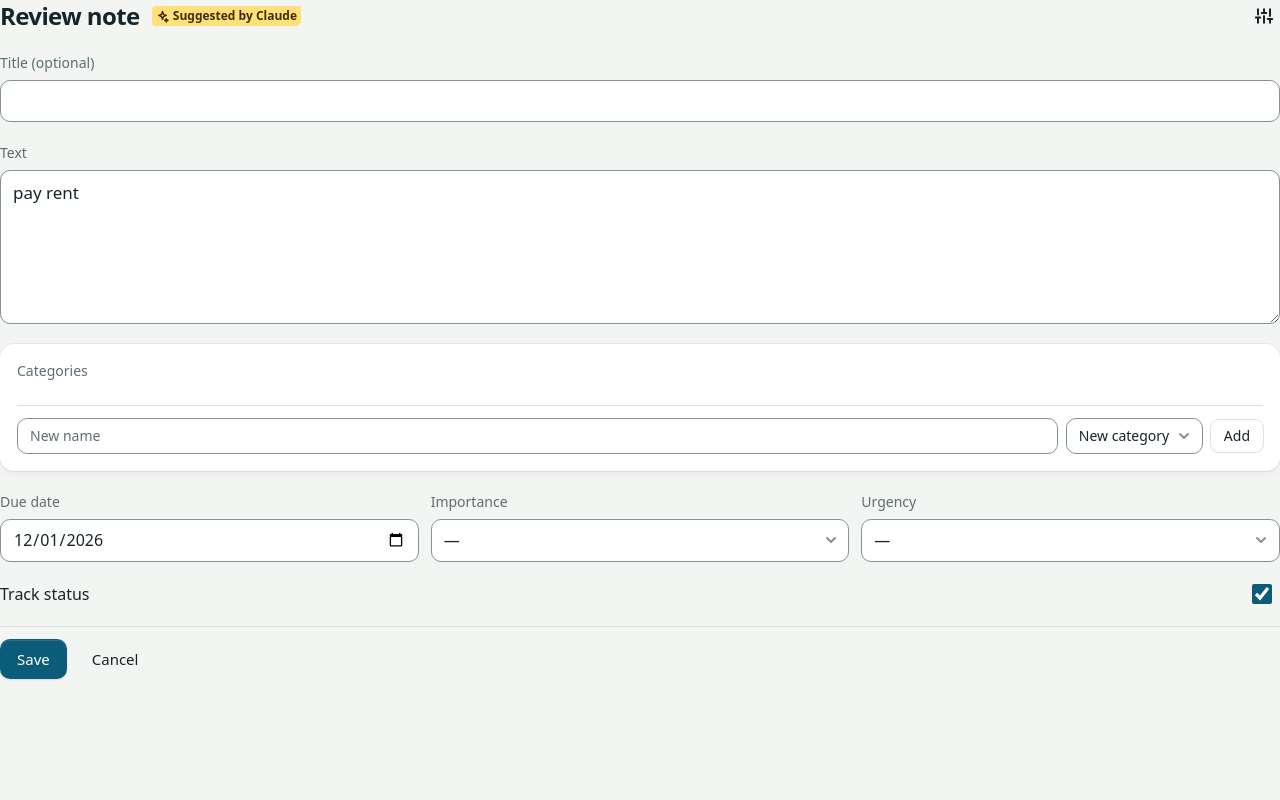
NoteEditor form settings › has no switch for the body; Save updates the open editor and keeps the body
The image size is (1280, 800).
Replace the text in the text box labelled "Text" with "typed" at (640, 247), box top-left (0, 170), bottom-right (1279, 324)
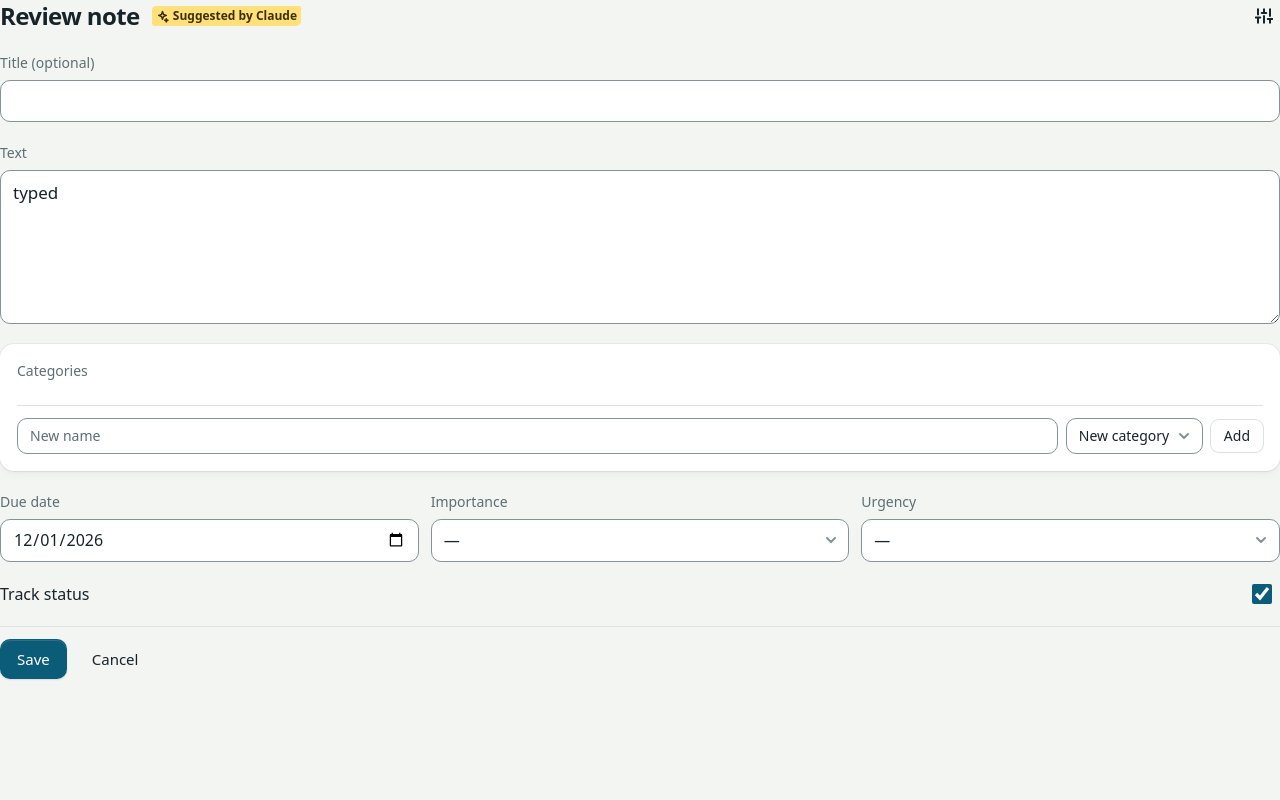
Click the button named "Form settings" at (1264, 16), box top-left (1248, 0), bottom-right (1279, 32)
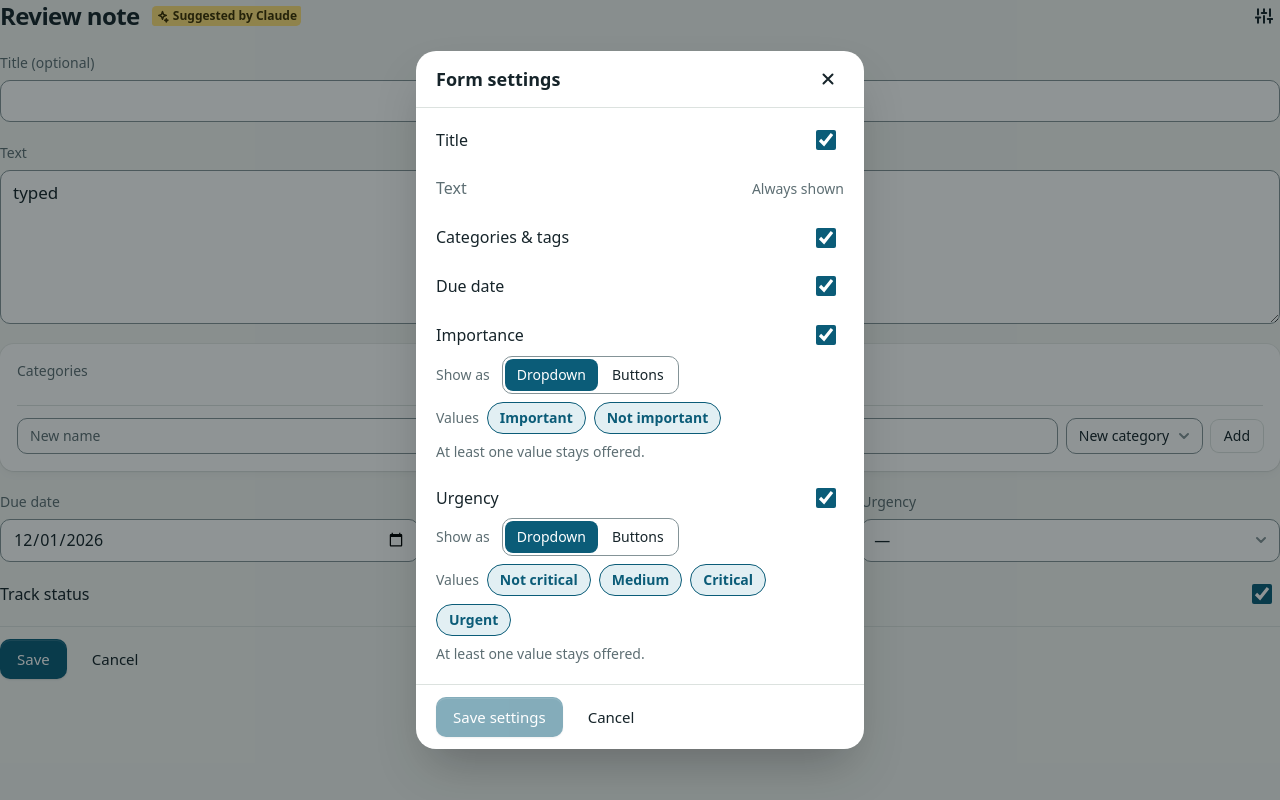
Expected: the text "Always shown" is shown, top-left (752, 179), bottom-right (844, 199)
Click the switch named "Show Urgency" at (826, 498), box top-left (808, 488), bottom-right (844, 508)
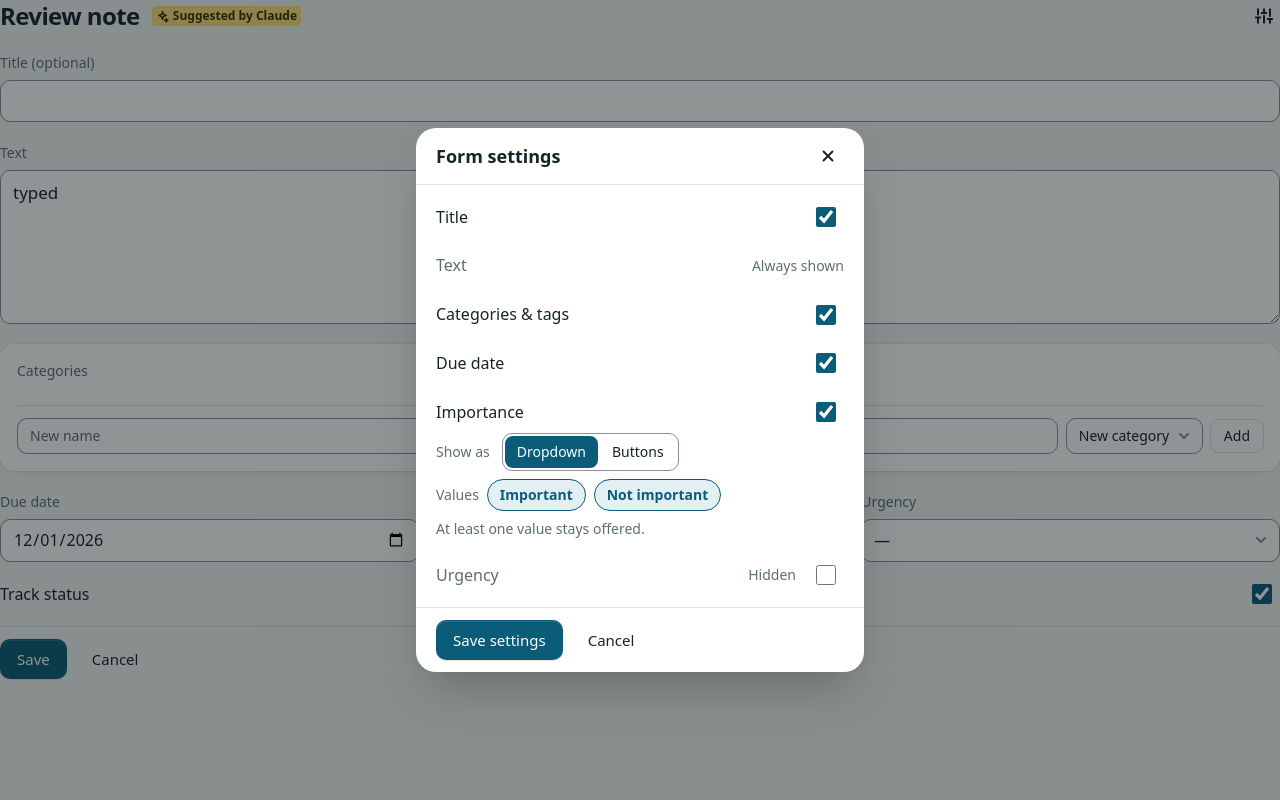
Click the button "Save settings" at (499, 640), box top-left (436, 620), bottom-right (563, 660)
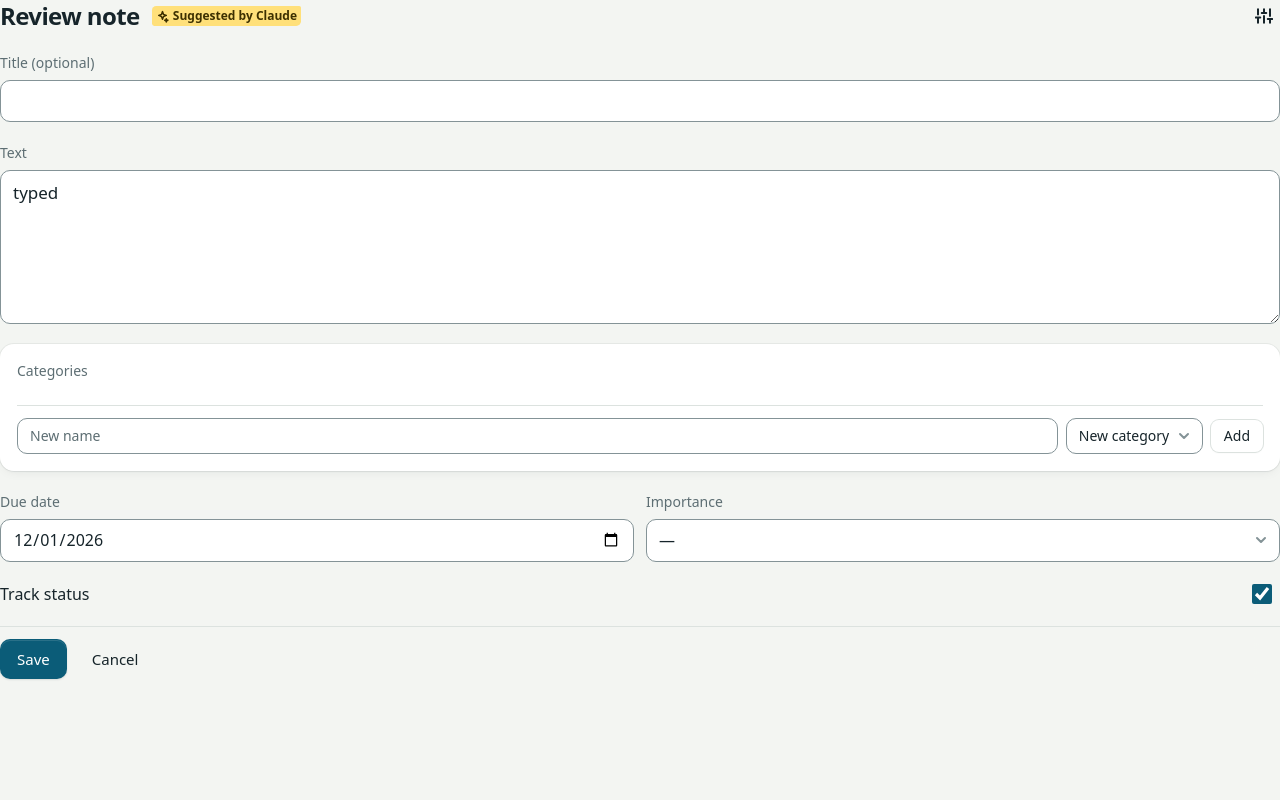
Expected: the label labelled "Urgency" is gone
